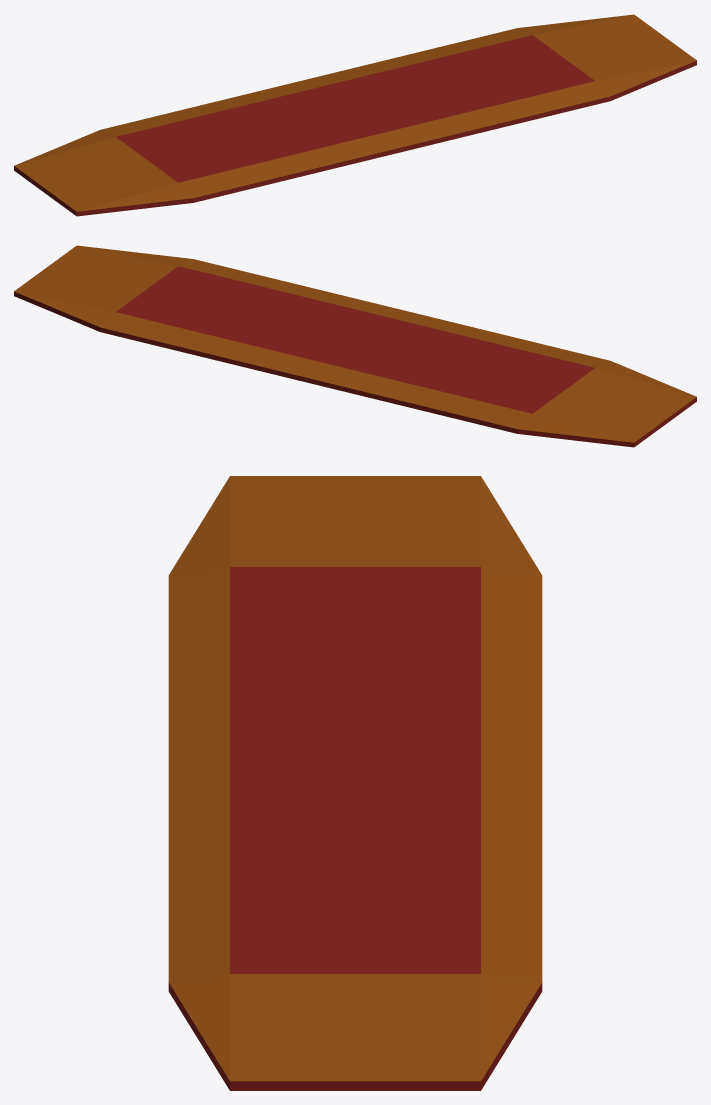
The model's file is tocino.fbx.
3 views of the same model, one above another, from view 1: azimuth 30°, elevation 25°; view 2: azimuth 150°, elevation 25°; view 3: azimuth 270°, elevation 25° (orthographic). The views are drawn at different scales.
Visible parts, largest first — view 1: Queso.001; view 2: Queso.001; view 3: Queso.001.
Part boxes in pixels (x1,y1,x2,y2): Queso.001: [14, 14, 696, 216]; Queso.001: [14, 245, 696, 447]; Queso.001: [168, 476, 542, 1090].
Bounding box in the file's own units: 2.06 × 0.0463 × 0.5372.
